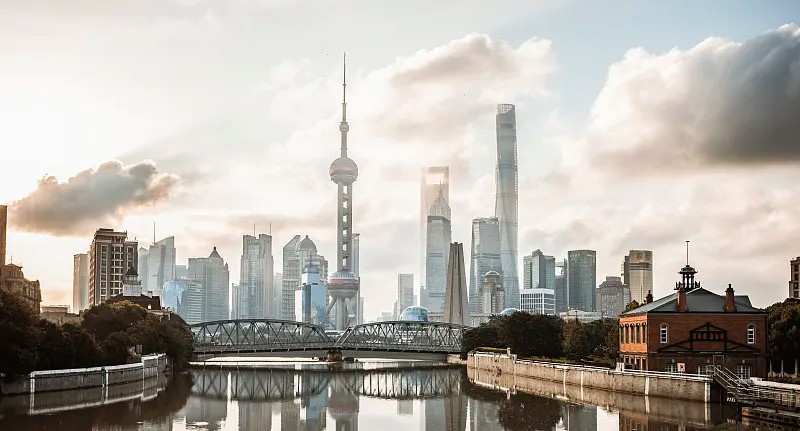Oriental: (327, 55, 362, 329)
